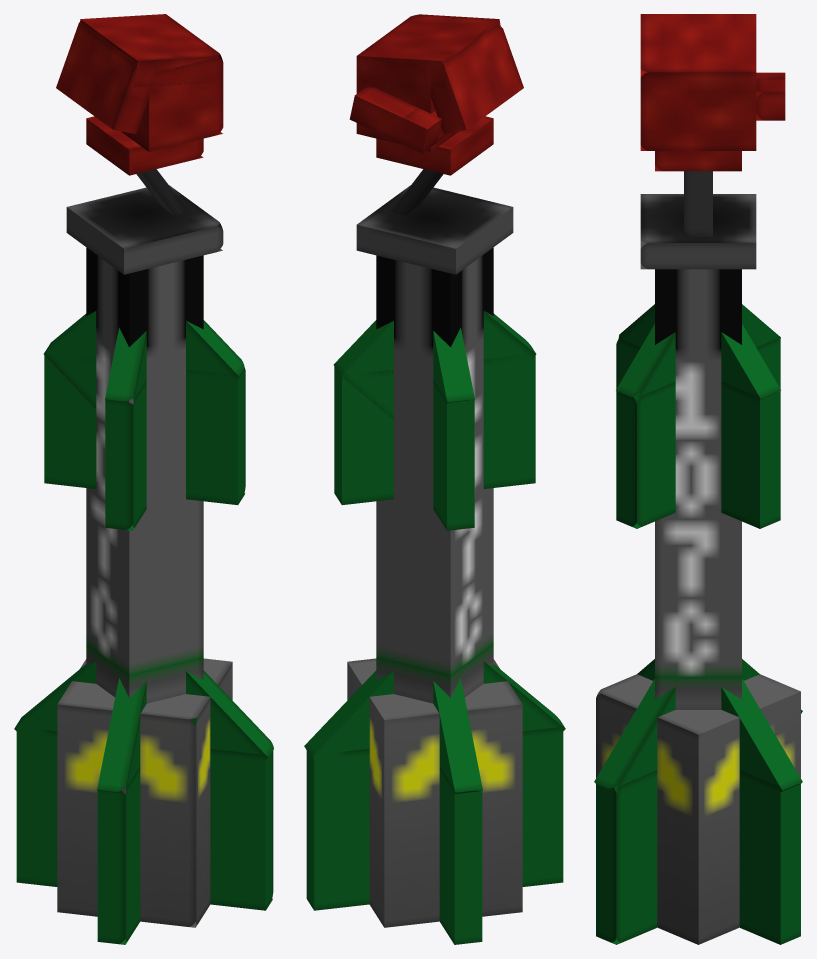
Rendered from missile_anvil.obj.
The picture shows the model from 3 angles, left to right: view 1: azimuth 30°, elevation 25°; view 2: azimuth 150°, elevation 25°; view 3: azimuth 270°, elevation 25°; orthographic projection.
Visible parts, largest first — view 1: A, B, D, H, K, C, F, Q, O, P, G, I (+4 smaller); view 2: A, B, C, G, K, D, Q, E, P, H, J, I (+6 smaller); view 3: A, B, C, D, O, H, G, K, P, I, J, E (+4 smaller).
Part boxes in pixels (bbox=[...]): A: bbox=[86, 247, 203, 703]; B: bbox=[57, 658, 232, 927]; D: bbox=[16, 727, 273, 910]; H: bbox=[44, 355, 245, 504]; K: bbox=[66, 185, 223, 274]; C: bbox=[97, 766, 140, 944]; F: bbox=[43, 311, 244, 419]; Q: bbox=[56, 22, 156, 133]; O: bbox=[121, 54, 223, 151]; P: bbox=[80, 14, 221, 87]; G: bbox=[105, 380, 146, 530]; I: bbox=[14, 661, 273, 759]; A: bbox=[376, 247, 493, 703]; B: bbox=[347, 658, 522, 927]; C: bbox=[306, 727, 563, 910]; G: bbox=[334, 354, 535, 504]; K: bbox=[356, 185, 513, 274]; D: bbox=[439, 766, 482, 944]; Q: bbox=[421, 24, 523, 133]; E: bbox=[333, 311, 536, 418]; P: bbox=[357, 14, 500, 87]; H: bbox=[433, 380, 474, 530]; J: bbox=[304, 661, 565, 759]; I: bbox=[433, 678, 482, 793]; A: bbox=[655, 269, 741, 709]; B: bbox=[596, 674, 800, 944]; C: bbox=[739, 770, 800, 944]; D: bbox=[596, 770, 657, 944]; O: bbox=[640, 68, 756, 150]; H: bbox=[616, 337, 780, 528]; G: bbox=[616, 339, 780, 528]; K: bbox=[640, 194, 756, 269]; P: bbox=[640, 14, 756, 77]; I: bbox=[594, 659, 802, 793]; J: bbox=[637, 659, 802, 791]; E: bbox=[618, 304, 780, 399].
Size of the model in its own units: 0.9009 by 4.14 by 0.9009.
